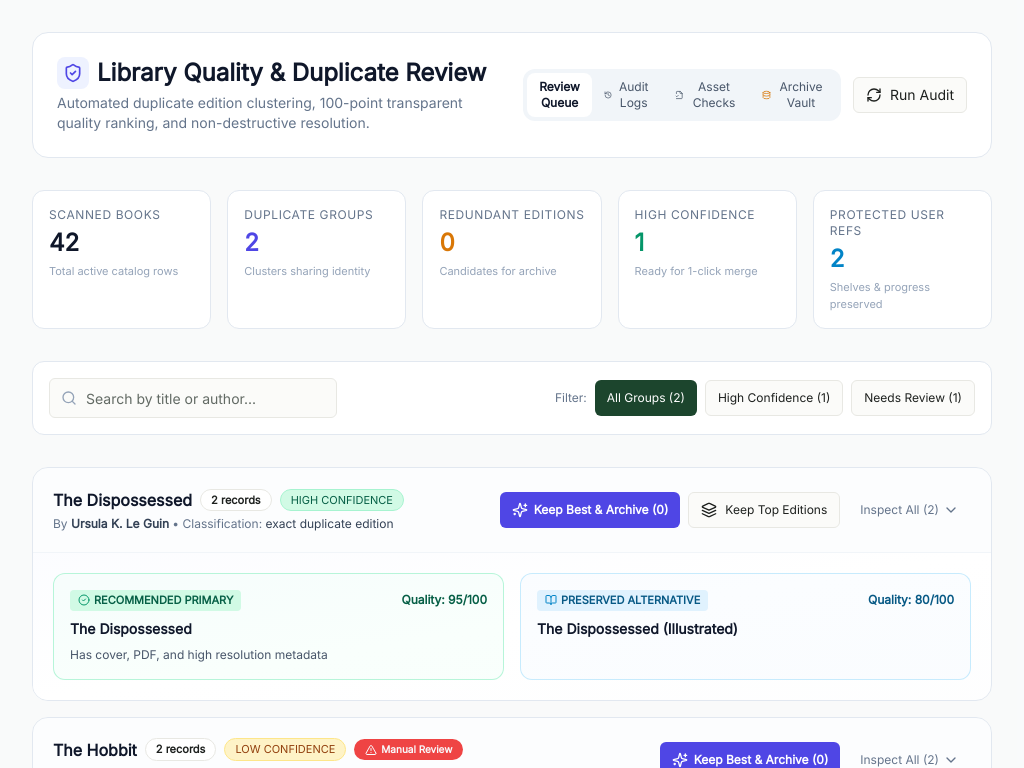
Test: AdminLibraryQuality › filters duplicate groups by confidence and searches candidate titles
The width and height of the screenshot is (1024, 768).
expect the heading "The Dispossessed" is shown: met, box [53,488,192,512]
expect the heading "The Hobbit" is shown: met, box [53,738,137,762]
Click the button "High Confidence (1)": (774, 398) [705,380,843,416]
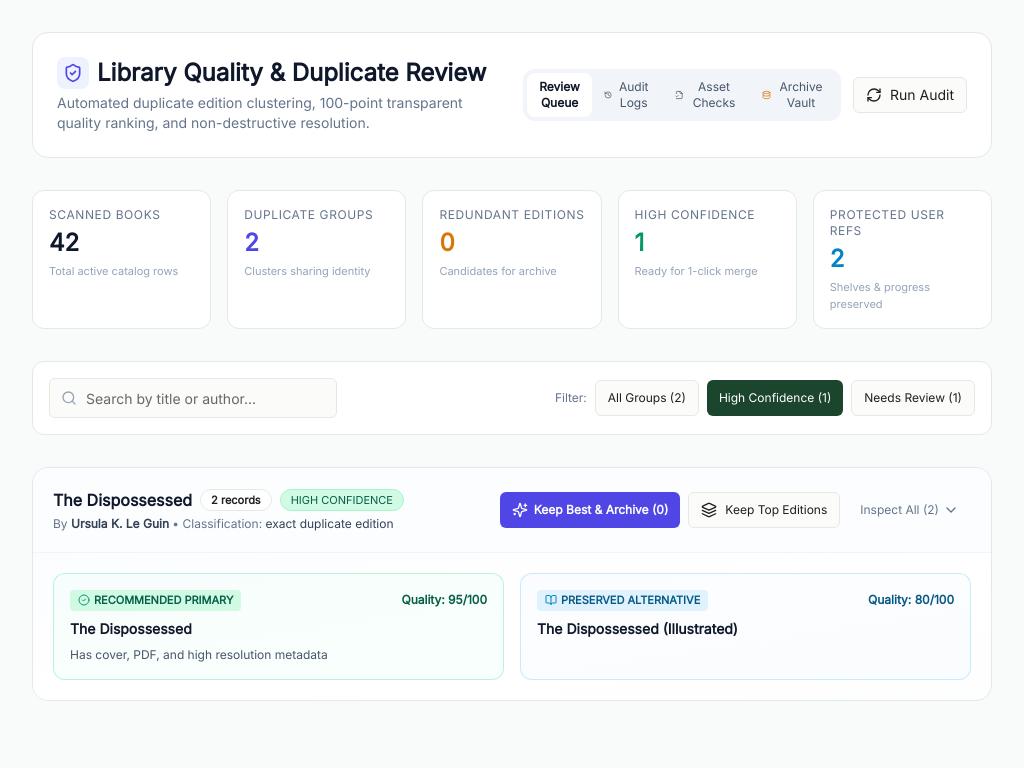
expect the heading "The Dispossessed" is shown: met, box [53,488,192,512]
expect the heading "The Hobbit" is gone: met
Click the button "All Groups (2)": (647, 398) [595,380,699,416]
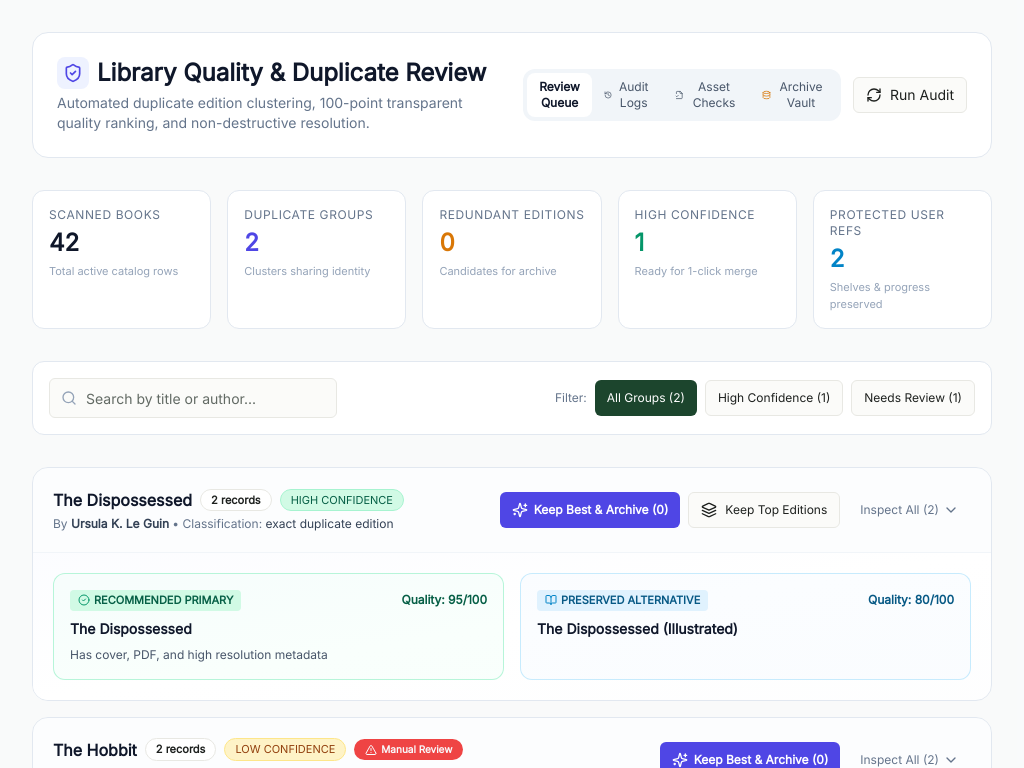
In the field with placeholder "Search by title or author...": (193, 398) [49,378,337,418], type "tolkien"
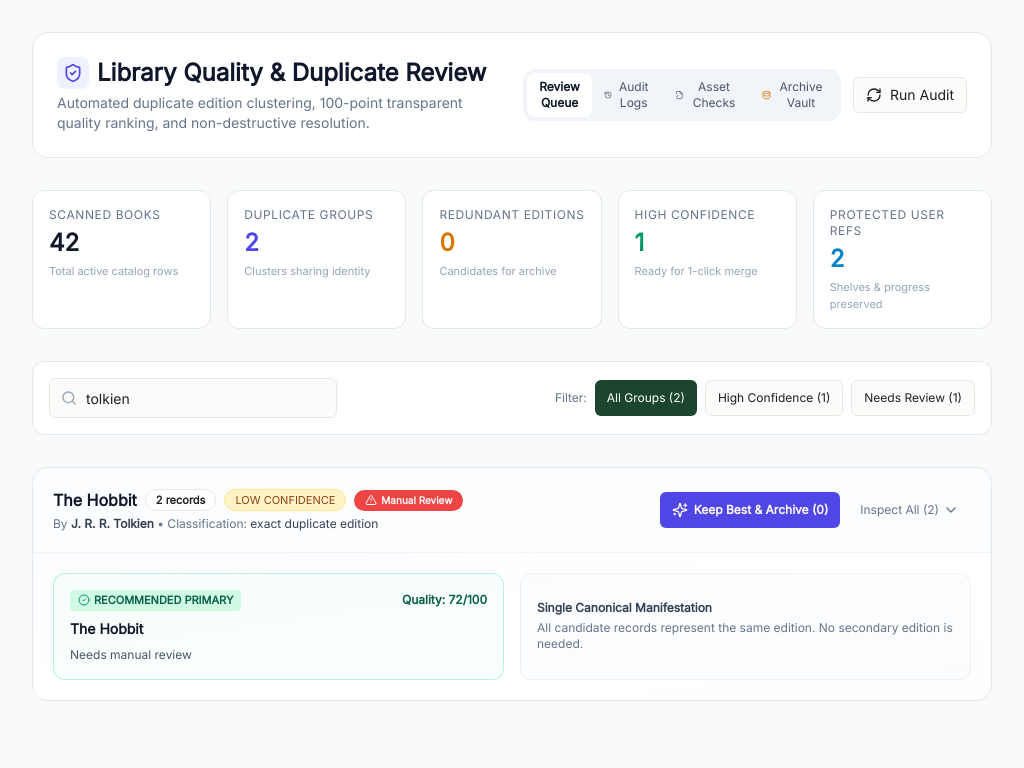
expect the heading "The Hobbit" is shown: met, box [53,488,137,512]
expect the heading "The Dispossessed" is gone: met
